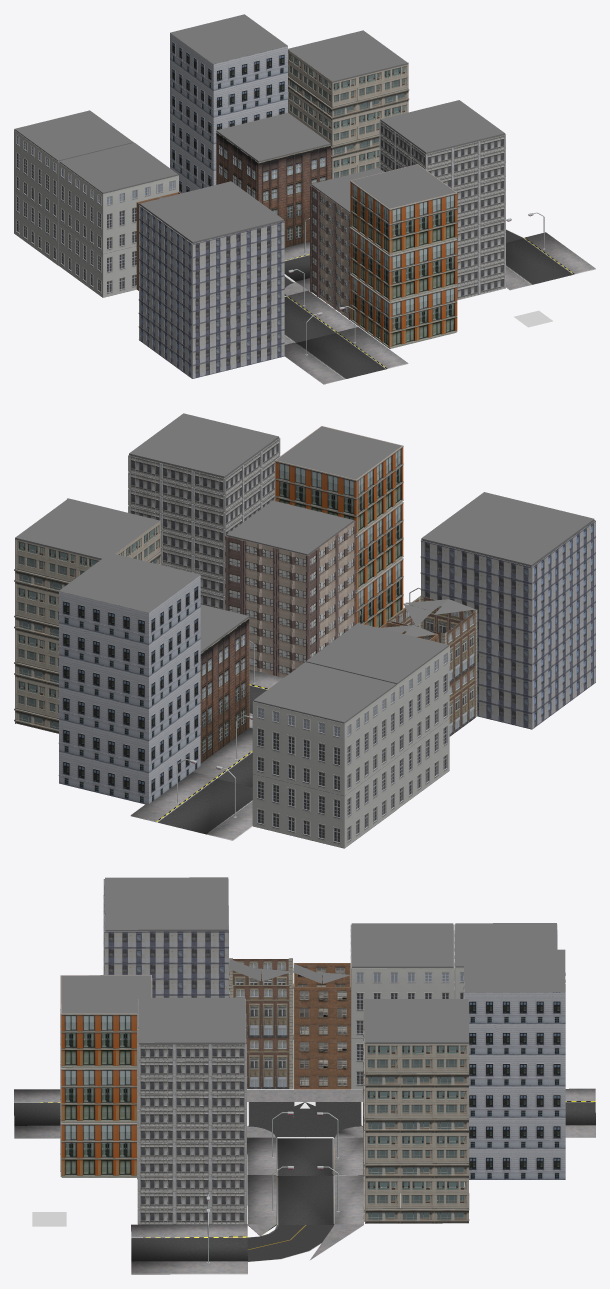
File: sehir.glb
The picture shows the model from 3 angles, top to bottom: view 1: azimuth 30°, elevation 25°; view 2: azimuth 150°, elevation 25°; view 3: azimuth 270°, elevation 25°; orthographic projection. The views are drawn at different scales.
Parts seen in each view (by area): view 1: Plane.054, Plane.059, Plane.011, Plane.053, Plane.058, camlar, Plane.062, Plane.055, Plane.075, Plane.040, 2Lanes.004, Plane.050 (+21 smaller); view 2: Plane.057, Plane.052, Plane.053, Plane.058, Plane.091, Plane.013, camlar.002, Plane.025, Plane.062, Plane.075, Plane.096, Plane.050 (+24 smaller); view 3: Plane.012, camlar.001, Plane.056, Plane.060, Plane.051, Plane.075, 2Lanes.001, 2Lanes, 2LanesTIntersection, Plane.015, Plane.016, Plane.030 (+19 smaller).
Boxes of the visible parts, left/top/right/bottom form: Plane.054: left=192, top=221, right=284, bottom=378; Plane.059: left=390, top=192, right=457, bottom=348; Plane.011: left=426, top=134, right=505, bottom=300; Plane.053: left=139, top=205, right=192, bottom=378; Plane.058: left=170, top=33, right=213, bottom=193; camlar: left=332, top=62, right=409, bottom=178; Plane.062: left=350, top=181, right=390, bottom=348; Plane.055: left=213, top=46, right=288, bottom=185; Plane.075: left=139, top=181, right=283, bottom=243; Plane.040: left=258, top=145, right=330, bottom=247; 2Lanes.004: left=284, top=327, right=408, bottom=384; Plane.050: left=59, top=179, right=103, bottom=297; Plane.057: left=59, top=591, right=148, bottom=804; Plane.052: left=421, top=540, right=532, bottom=729; Plane.053: left=532, top=520, right=595, bottom=729; Plane.058: left=149, top=575, right=200, bottom=803; Plane.091: left=253, top=722, right=344, bottom=848; Plane.013: left=129, top=455, right=225, bottom=609; camlar.002: left=15, top=540, right=100, bottom=733; Plane.025: left=243, top=540, right=308, bottom=677; Plane.062: left=357, top=445, right=403, bottom=627; Plane.075: left=421, top=492, right=594, bottom=566; Plane.096: left=344, top=706, right=397, bottom=847; Plane.050: left=397, top=667, right=449, bottom=808; Plane.012: left=138, top=1044, right=246, bottom=1224; camlar.001: left=365, top=1044, right=469, bottom=1223; Plane.056: left=464, top=992, right=565, bottom=1179; Plane.060: left=61, top=1013, right=136, bottom=1177; Plane.051: left=104, top=931, right=228, bottom=997; Plane.075: left=105, top=877, right=228, bottom=931; 2Lanes.001: left=131, top=1224, right=247, bottom=1274; 2Lanes: left=247, top=1175, right=363, bottom=1224; 2LanesTIntersection: left=247, top=1090, right=363, bottom=1138; Plane.015: left=138, top=997, right=245, bottom=1044; Plane.016: left=364, top=999, right=468, bottom=1043; Plane.030: left=233, top=985, right=289, bottom=1089.
Size of the model in its own units: 32.63 by 12.02 by 33.79.
Materials: 52 (48 with a texture image).
